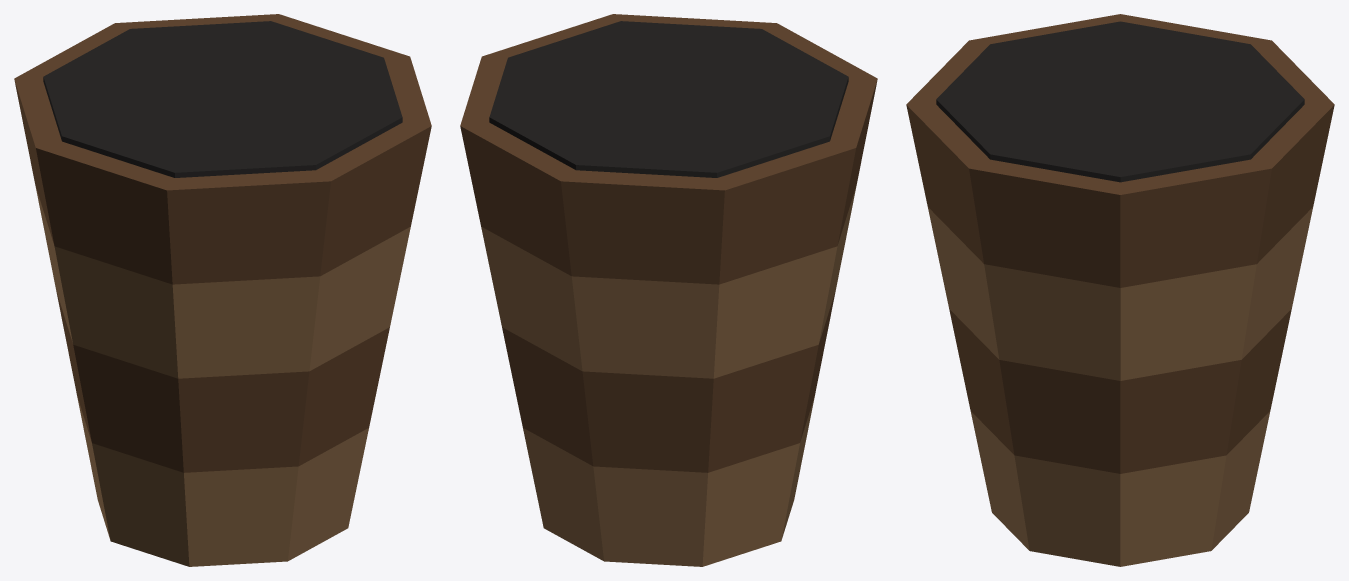
Rendered from SM_Wood_Basket_E.glb.
The picture shows the model from 3 angles, left to right: view 1: azimuth 30°, elevation 25°; view 2: azimuth 150°, elevation 25°; view 3: azimuth 270°, elevation 25°; orthographic projection.
Parts seen in each view (by area): view 1: SM_Wood_Basket_E; view 2: SM_Wood_Basket_E; view 3: SM_Wood_Basket_E.
Part boxes in pixels (<box>): SM_Wood_Basket_E: <box>14,14,431,566</box>; SM_Wood_Basket_E: <box>460,14,877,566</box>; SM_Wood_Basket_E: <box>906,14,1334,566</box>.
Bounding box in the file's own units: 0.574 × 0.611 × 0.574.
Materials: 1 (1 with a texture image).
